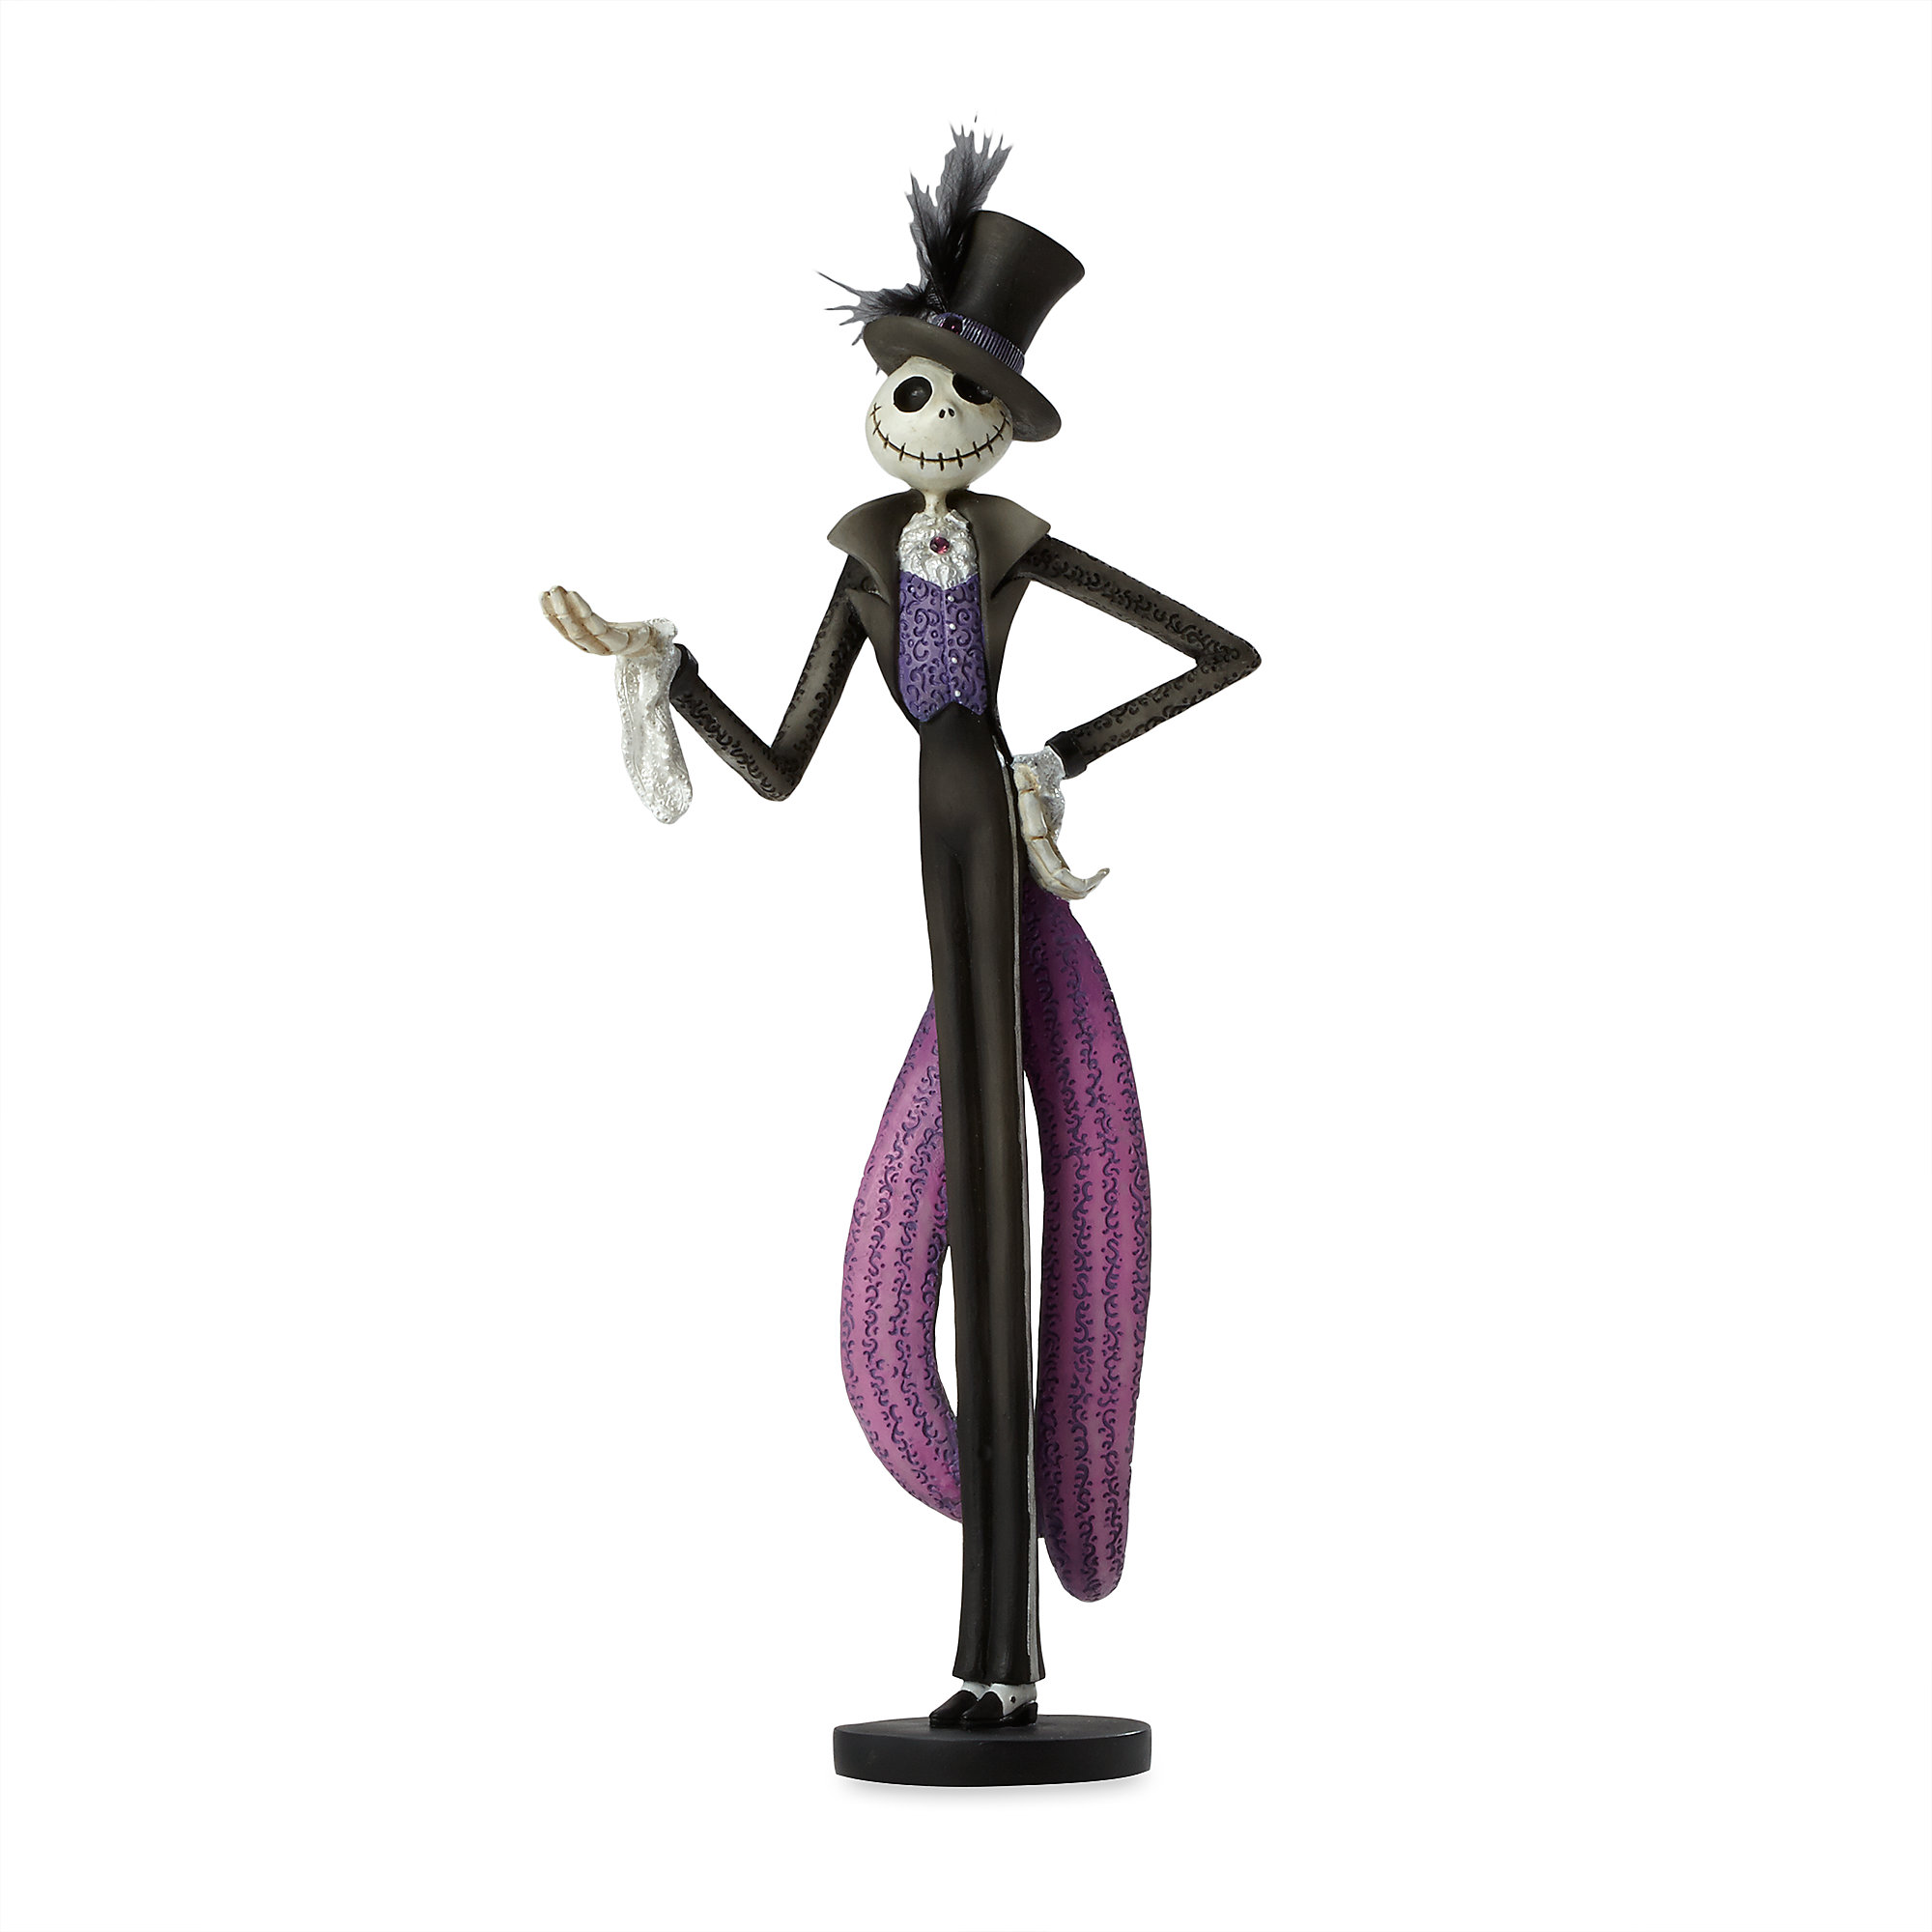Jack Skellington: (538, 117, 1267, 1729)
